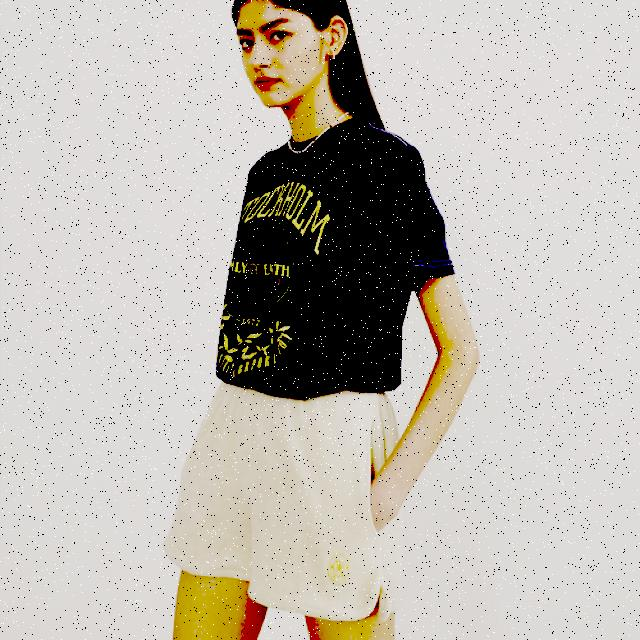dress: (170, 360, 392, 597)
